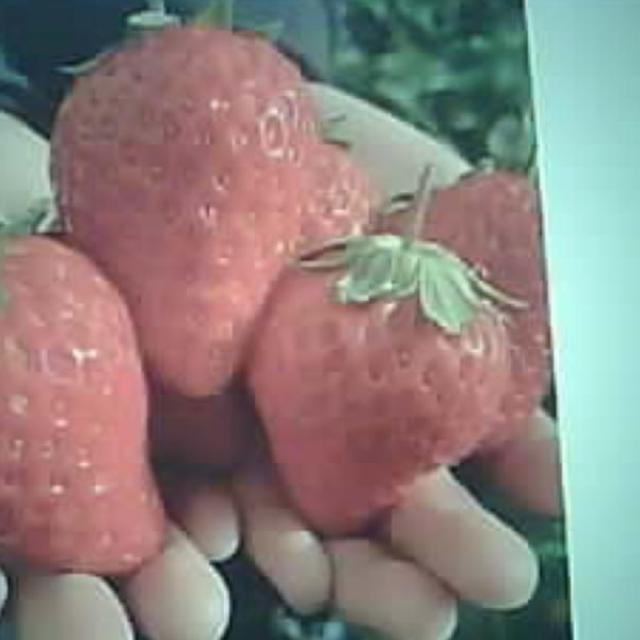Healthy Fruit: (56, 29, 344, 398), (250, 255, 518, 542), (0, 229, 168, 571)
